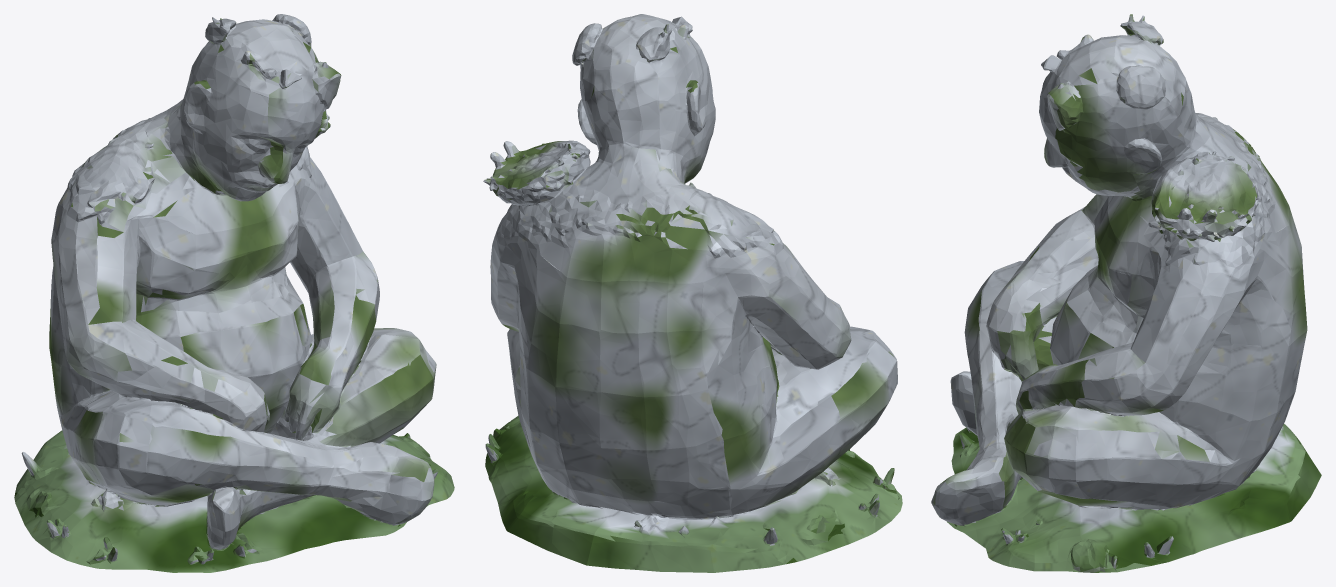
Rendered from giant_lotus.glb.
The picture shows the model from 3 angles, left to right: view 1: azimuth 30°, elevation 25°; view 2: azimuth 150°, elevation 25°; view 3: azimuth 270°, elevation 25°; orthographic projection.
Visible parts, largest first — view 1: geometry_0; view 2: geometry_0; view 3: geometry_0.
Boxes of the visible parts, <box> form: geometry_0: <box>14,14,454,572</box>; geometry_0: <box>483,14,902,572</box>; geometry_0: <box>931,14,1321,572</box>.
Size of the model in its own units: 6 by 7 by 5.29.
1 material, 1 textured.
